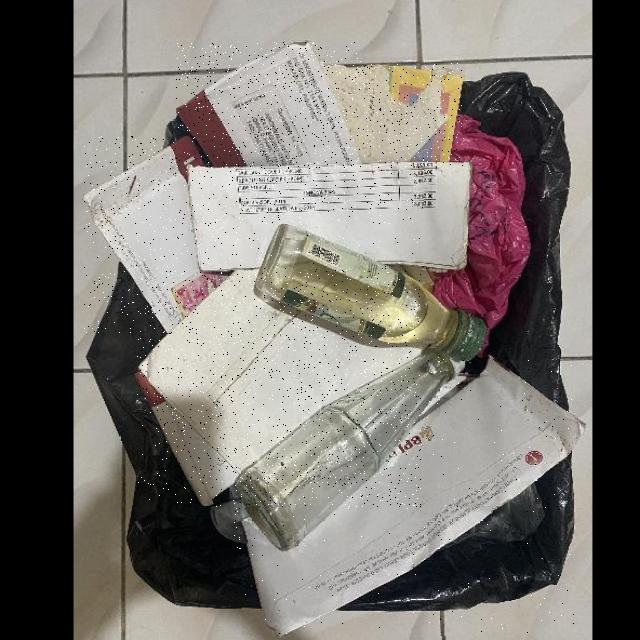glass: (235, 350, 468, 552), (255, 225, 489, 361)
paper: (242, 359, 582, 636), (137, 269, 421, 508), (186, 162, 472, 276), (83, 136, 228, 334), (177, 41, 361, 169), (322, 63, 464, 166)
plastic: (425, 115, 531, 359)
